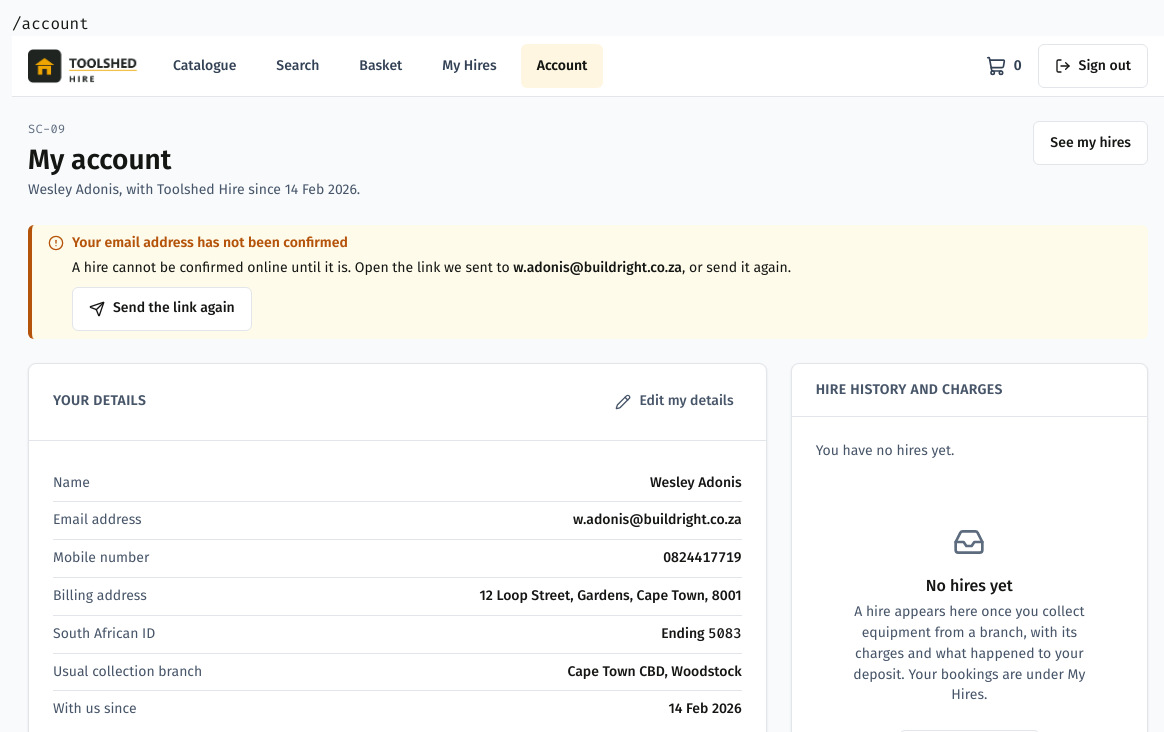
Scenario: an email address that is not confirmed › is said at the top, and the link is sent again once on request
expect the text "Your email address has not been confirmed" is shown: met, box [72,234,348,251]
Step 1. Click the button "Send the link again" → click(162, 309), box [72,287,252,331]
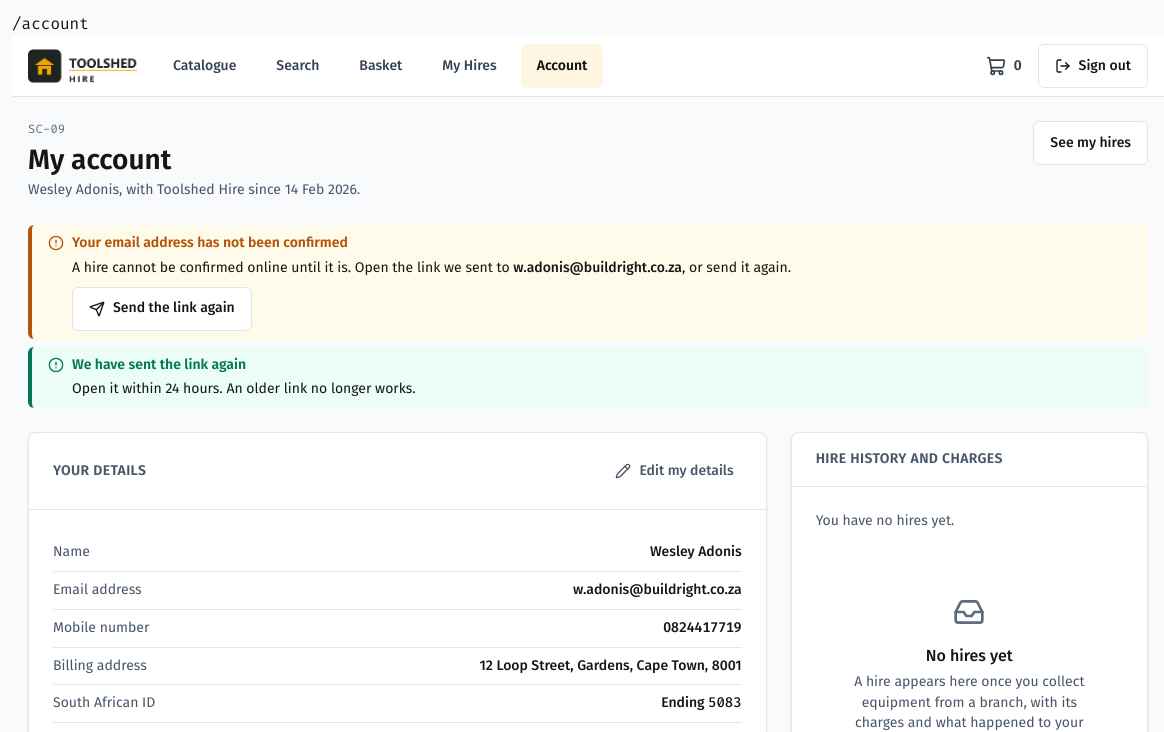
expect the text "We have sent the link again" is shown: met, box [72,356,246,373]
